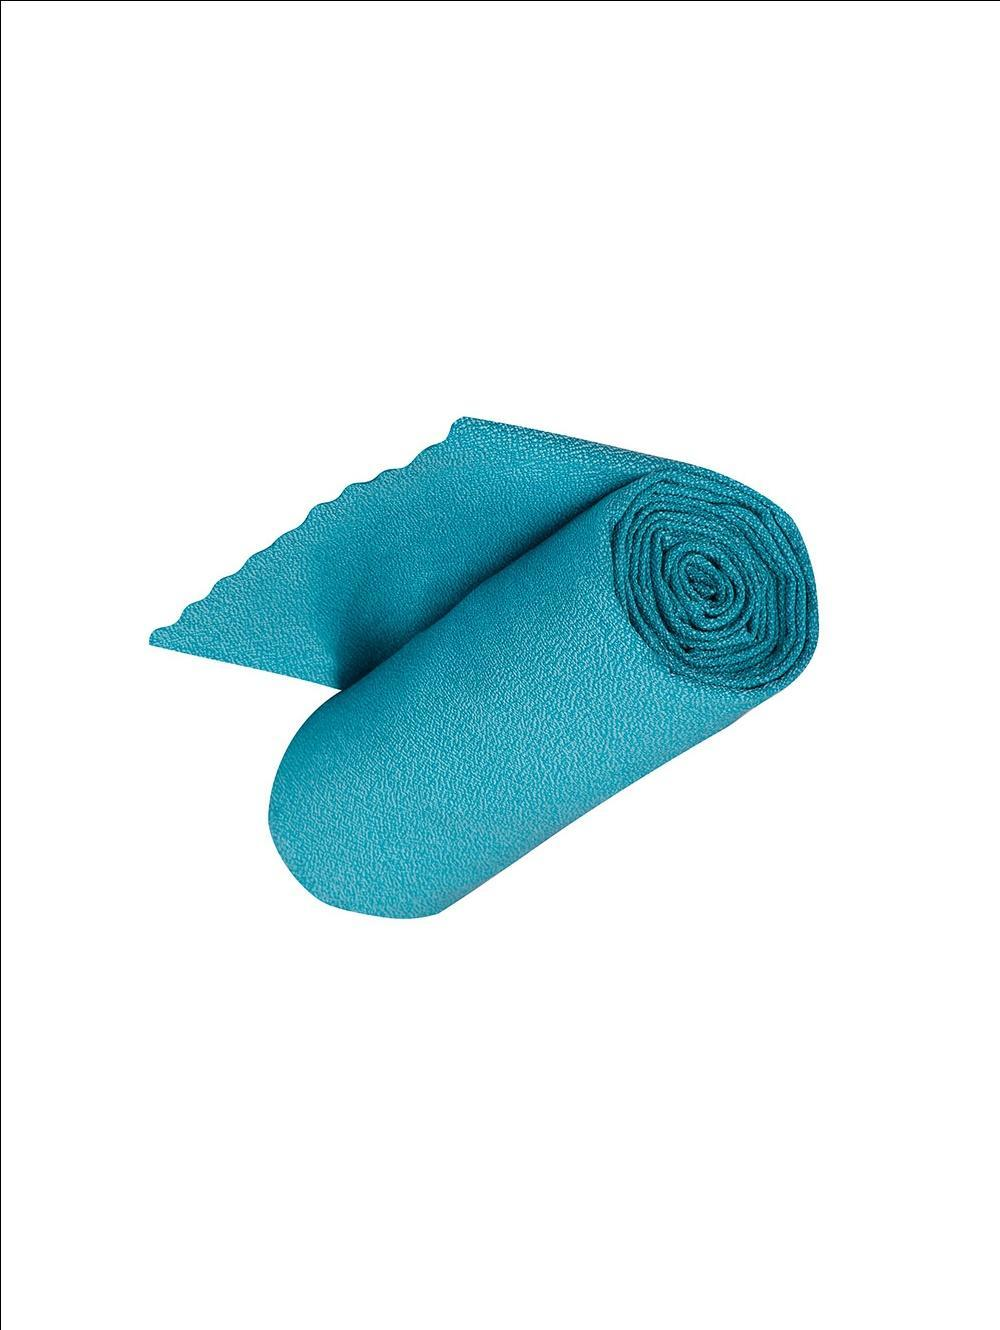towel: (113, 340, 857, 997)
